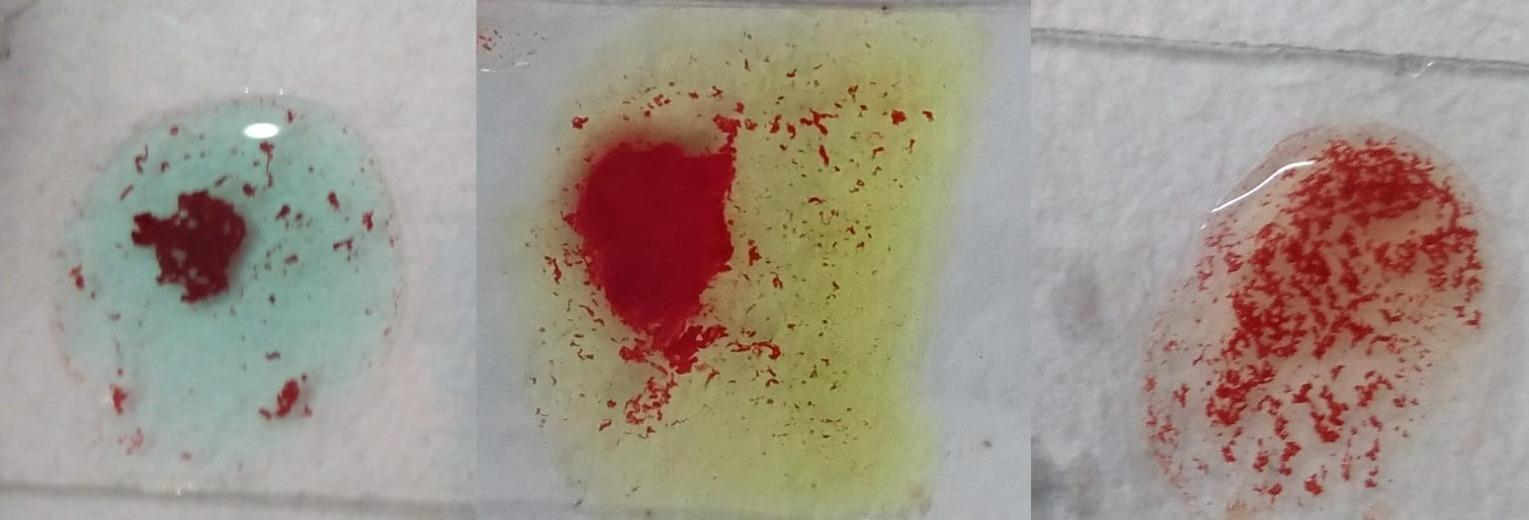A: (55, 102, 397, 462)
B: (525, 35, 940, 472)
D: (1152, 125, 1497, 502)
